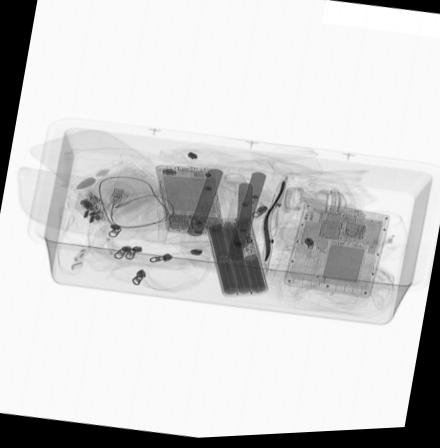Powerbank: (201, 220, 266, 295)
